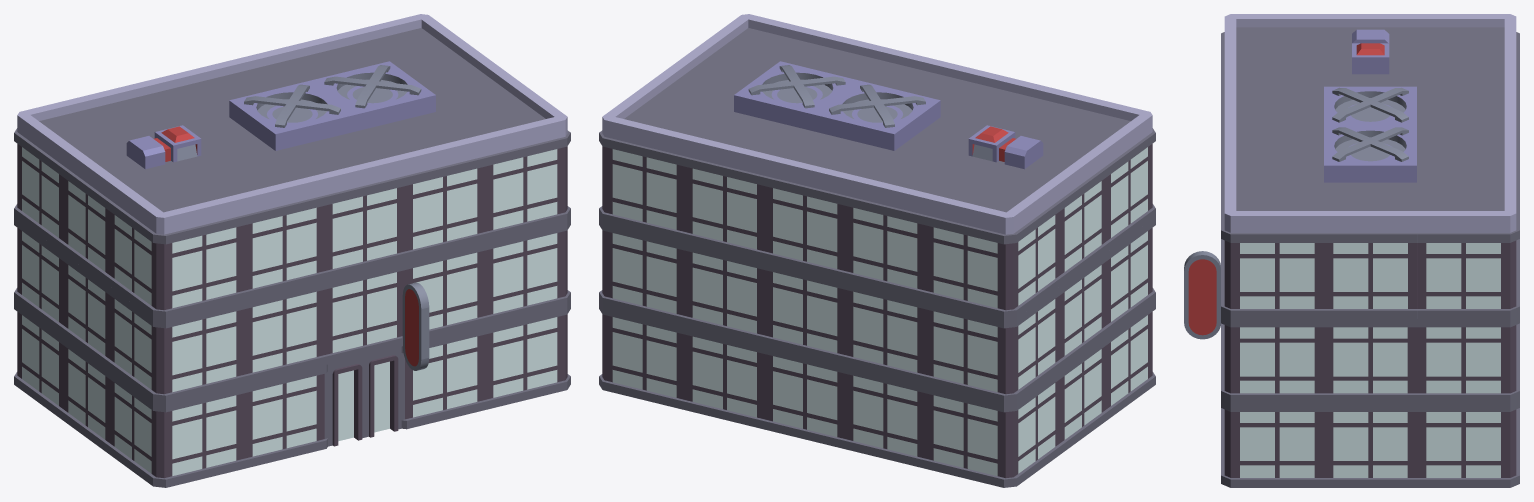
File: office.fbx
3 views of the same model, side by side, from view 1: azimuth 30°, elevation 25°; view 2: azimuth 150°, elevation 25°; view 3: azimuth 270°, elevation 25° (orthographic).
Parts seen in each view (by area): view 1: mergedBlocks; view 2: mergedBlocks; view 3: mergedBlocks.
Boxes of the visible parts, bbox=[...] form: mergedBlocks: bbox=[14, 14, 570, 487]; mergedBlocks: bbox=[599, 14, 1155, 487]; mergedBlocks: bbox=[1184, 14, 1519, 487].
Bounding box in the file's own units: 52.05 × 33.6 × 36.03.
